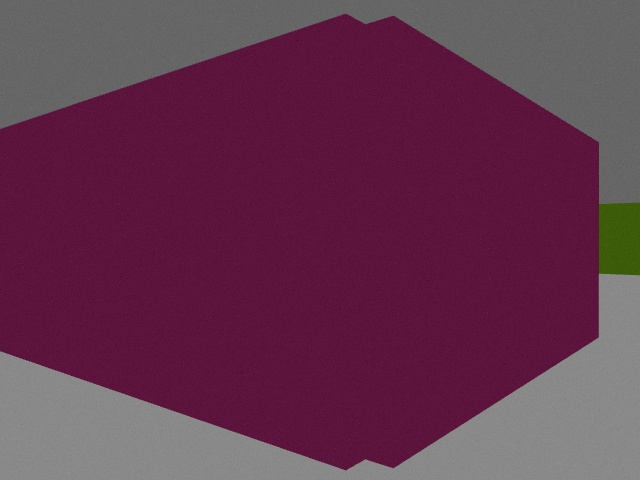green_drop_zone: (599, 203, 640, 275)
red_drop_zone: (0, 14, 599, 470)
